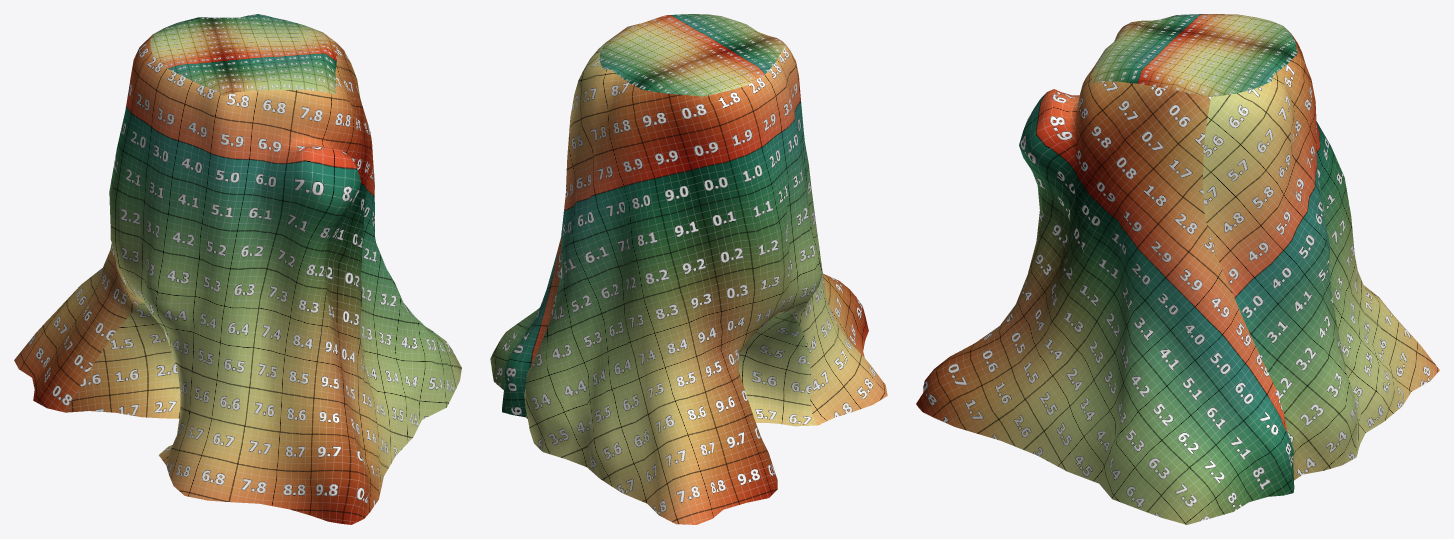
Rendered from MotherTree.fbx.
3 renders of one model, left to right at view 1: azimuth 30°, elevation 25°; view 2: azimuth 150°, elevation 25°; view 3: azimuth 270°, elevation 25°, orthographic. The views are drawn at different scales.
Visible parts, largest first — view 1: MotherTree; view 2: MotherTree; view 3: MotherTree.
Boxes of the visible parts, left/top/right/bottom form: MotherTree: left=14, top=14, right=461, bottom=524; MotherTree: left=490, top=14, right=887, bottom=524; MotherTree: left=916, top=14, right=1439, bottom=524.
Size of the model in its own units: 39.08 by 38.88 by 49.1.
1 material, 1 textured.
